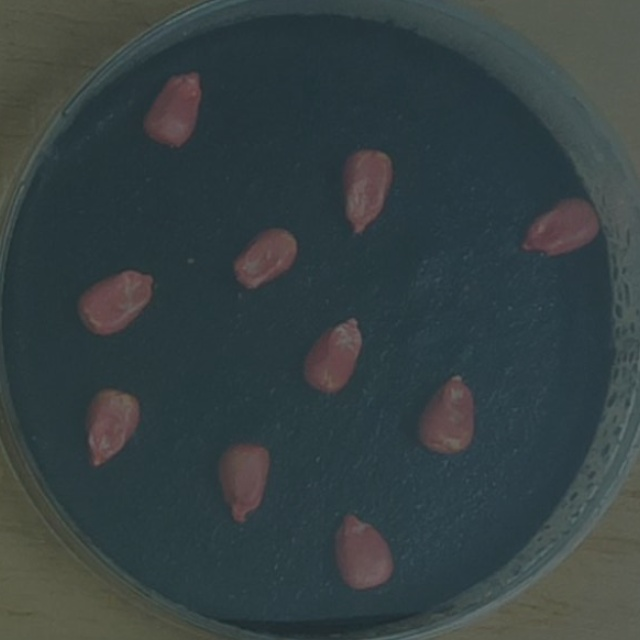Zea mays: (69, 262, 162, 343), (511, 187, 608, 263), (409, 364, 482, 463), (325, 502, 400, 598), (296, 307, 369, 399), (208, 433, 277, 530), (136, 60, 207, 154), (334, 139, 399, 241), (76, 378, 143, 472), (224, 218, 304, 296)
